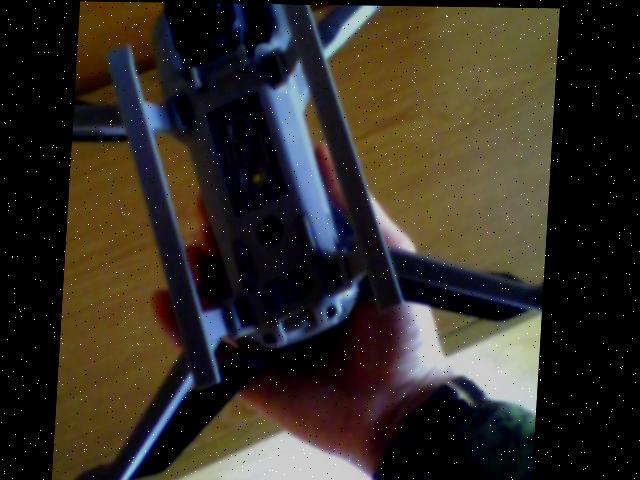drone: (58, 1, 560, 480)
